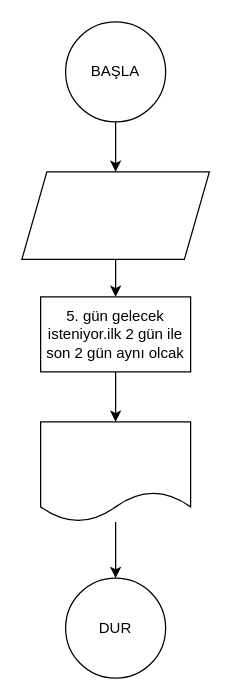
This 231x700 diagram has some shape labels left out. Each missing label, with the box of its shape:
2 günde 1 gelen ve 3 günde1 gelen çalışan: (21, 171, 209, 259)
son 2günden 4.günü çıkar ve sonuç bu: (39, 421, 191, 522)
